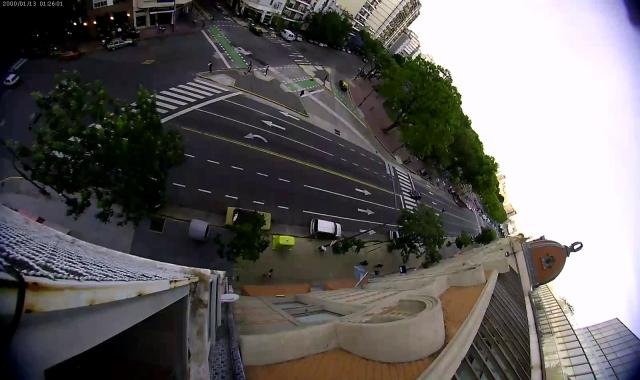bus: (453, 194, 467, 208)
car: (224, 206, 272, 232), (310, 218, 341, 238), (107, 38, 132, 50), (60, 48, 81, 60), (55, 78, 72, 92), (3, 73, 20, 86), (24, 47, 44, 58), (281, 29, 293, 41), (249, 26, 263, 36), (339, 80, 348, 92), (410, 191, 422, 200), (389, 230, 399, 239), (212, 2, 222, 9), (296, 34, 302, 42), (345, 48, 351, 54), (308, 39, 313, 44), (292, 35, 296, 40), (319, 42, 323, 47), (482, 215, 486, 220), (314, 40, 318, 44), (472, 208, 476, 212), (466, 204, 470, 208), (342, 48, 345, 52), (469, 206, 472, 210), (324, 44, 327, 47)
